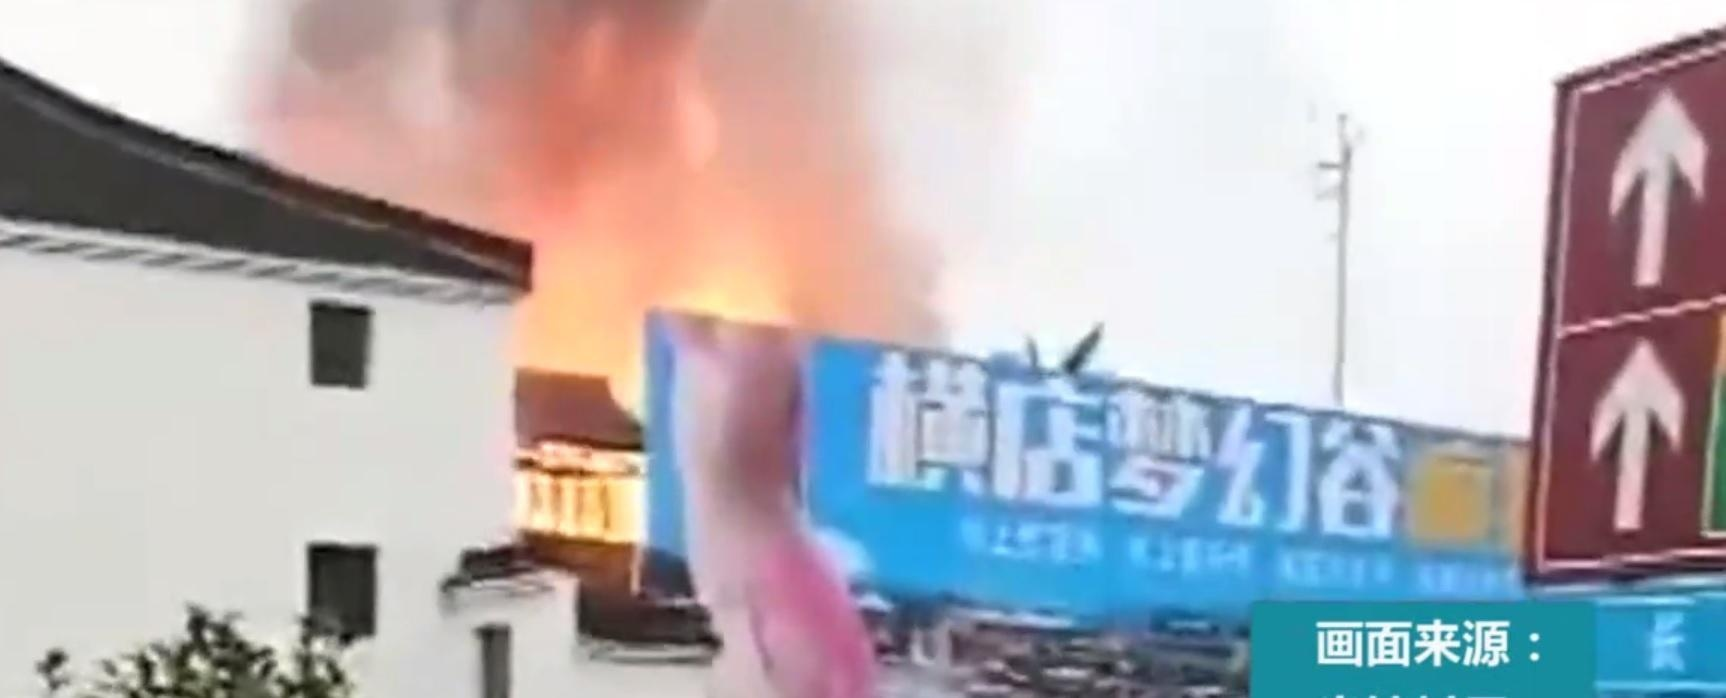fire: (516, 424, 642, 541), (669, 251, 791, 326)
